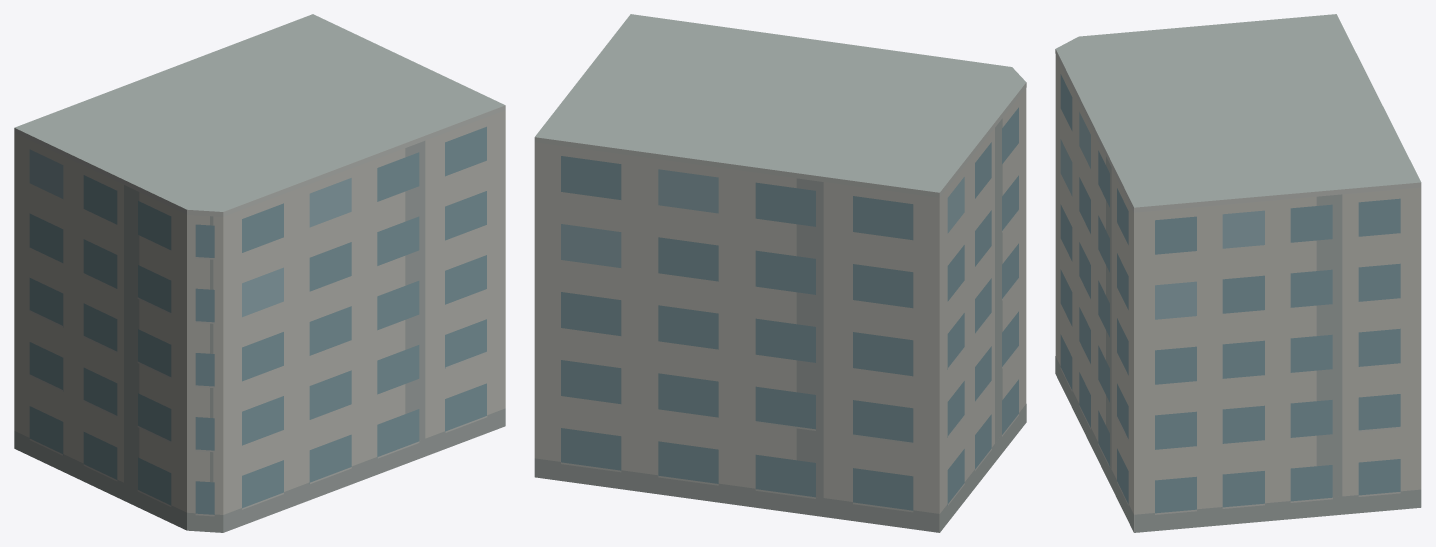
The model's file is survey-upis-32823331.glb.
The picture shows the model from 3 angles, left to right: view 1: azimuth 30°, elevation 25°; view 2: azimuth 150°, elevation 25°; view 3: azimuth 270°, elevation 25°; orthographic projection. The views are drawn at different scales.
Parts seen in each view (by area): view 1: survey-upis-32823331.tmp; view 2: survey-upis-32823331.tmp; view 3: survey-upis-32823331.tmp.
Part boxes in pixels (box(x1,y1,x2,y2)): survey-upis-32823331.tmp: box(14, 14, 505, 532); survey-upis-32823331.tmp: box(534, 14, 1026, 532); survey-upis-32823331.tmp: box(1055, 14, 1421, 532).
Bounding box in the file's own units: 20.18 × 15.8 × 16.12.
